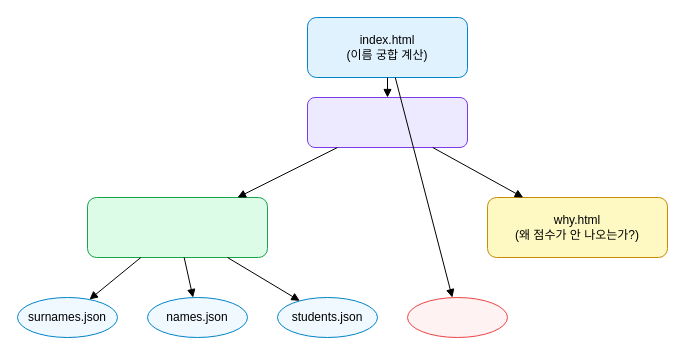
Image size: 685x355. Some labels were removed from this diagram. The centre of each missing label's shape, as x and y in pixels:
gsa.webp (로고 이미지): the point at 457,317
match.html (100점/90점 궁합 찾기): the point at 177,227
script.js (공통 계산 로직): the point at 387,122
